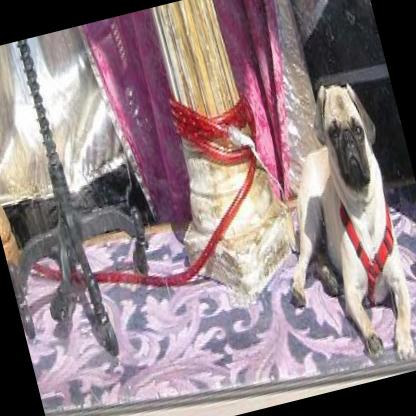pug: (239, 69, 416, 391)
